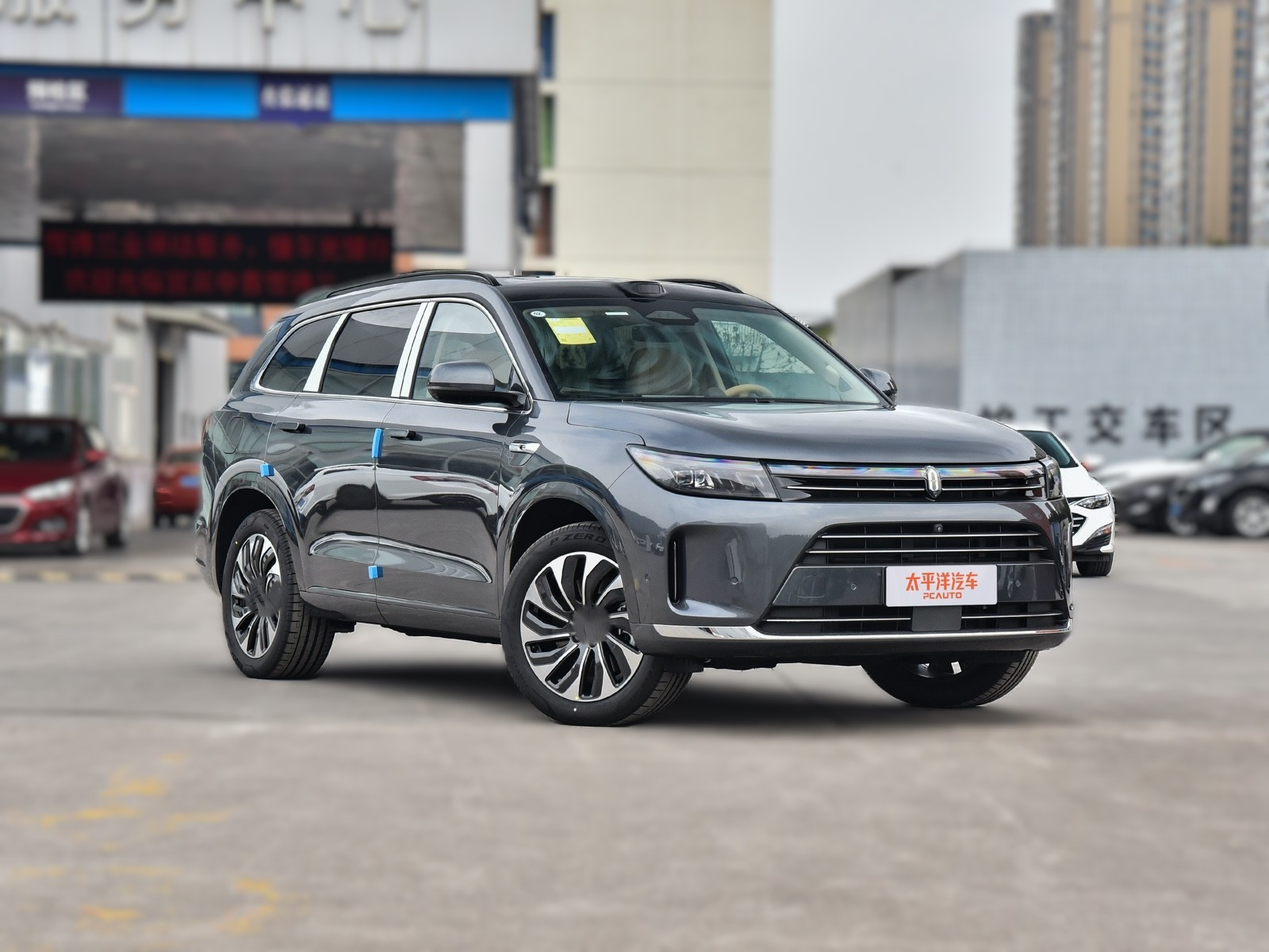AITO: (928, 469, 938, 494)
